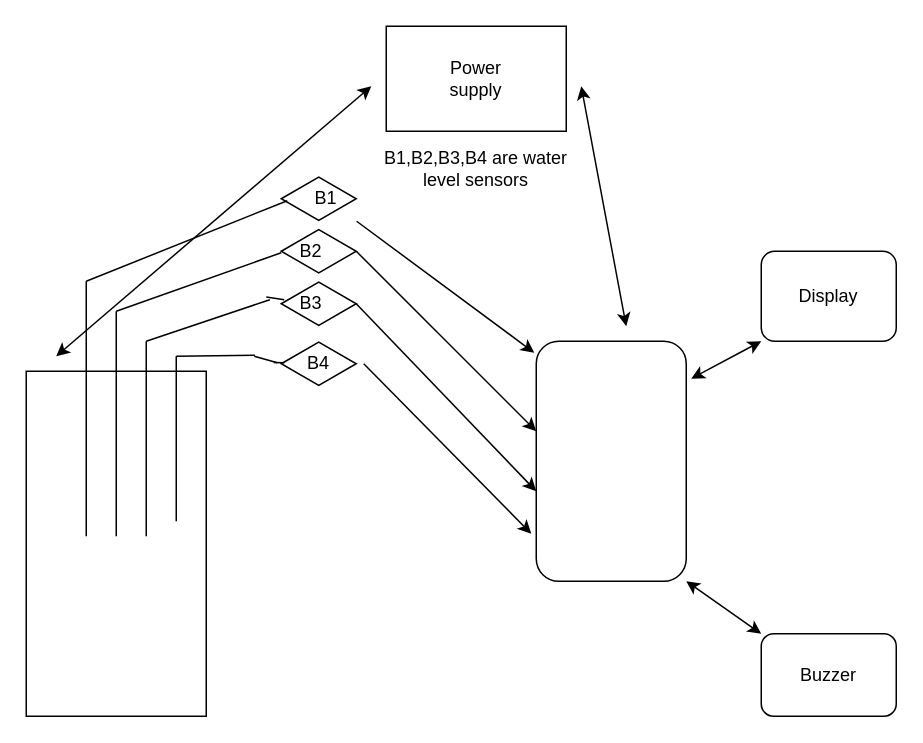
Image size: 923x743. Some labels were removed from this diagram. Each missing label, with the box of its shape:
Micro Controller: (535, 340, 686, 581)
Water Tank: (25, 370, 206, 716)
